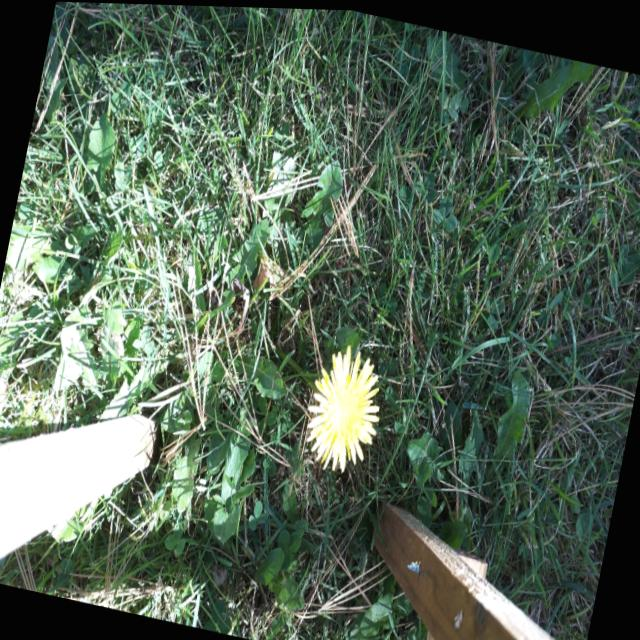base: (266, 331, 294, 372)
